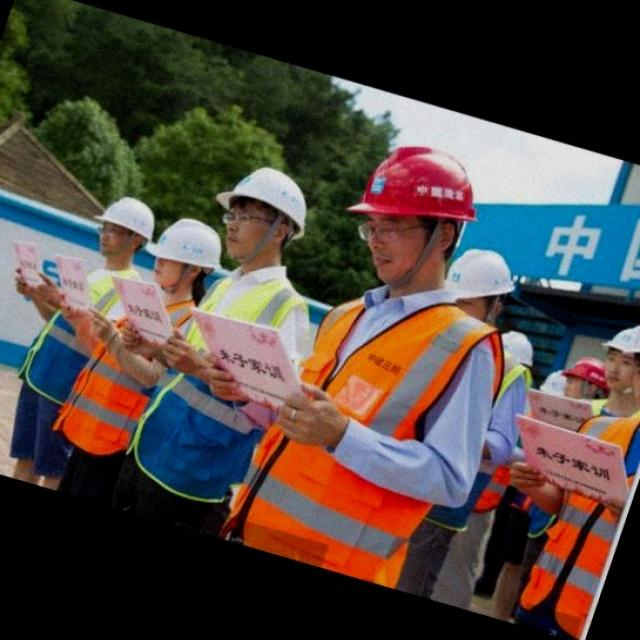Capacete: (347, 147, 476, 222), (216, 167, 306, 238), (146, 218, 221, 269), (445, 249, 514, 298), (95, 197, 154, 240), (562, 356, 608, 392), (502, 331, 532, 366), (603, 325, 639, 353)
Colete: (301, 301, 502, 439), (129, 372, 262, 501), (519, 492, 617, 638), (53, 342, 150, 455), (18, 311, 88, 404), (426, 465, 508, 530)
